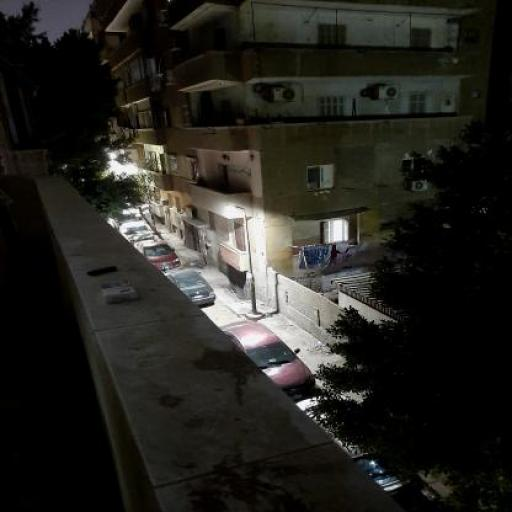street light: (226, 204, 258, 315)
